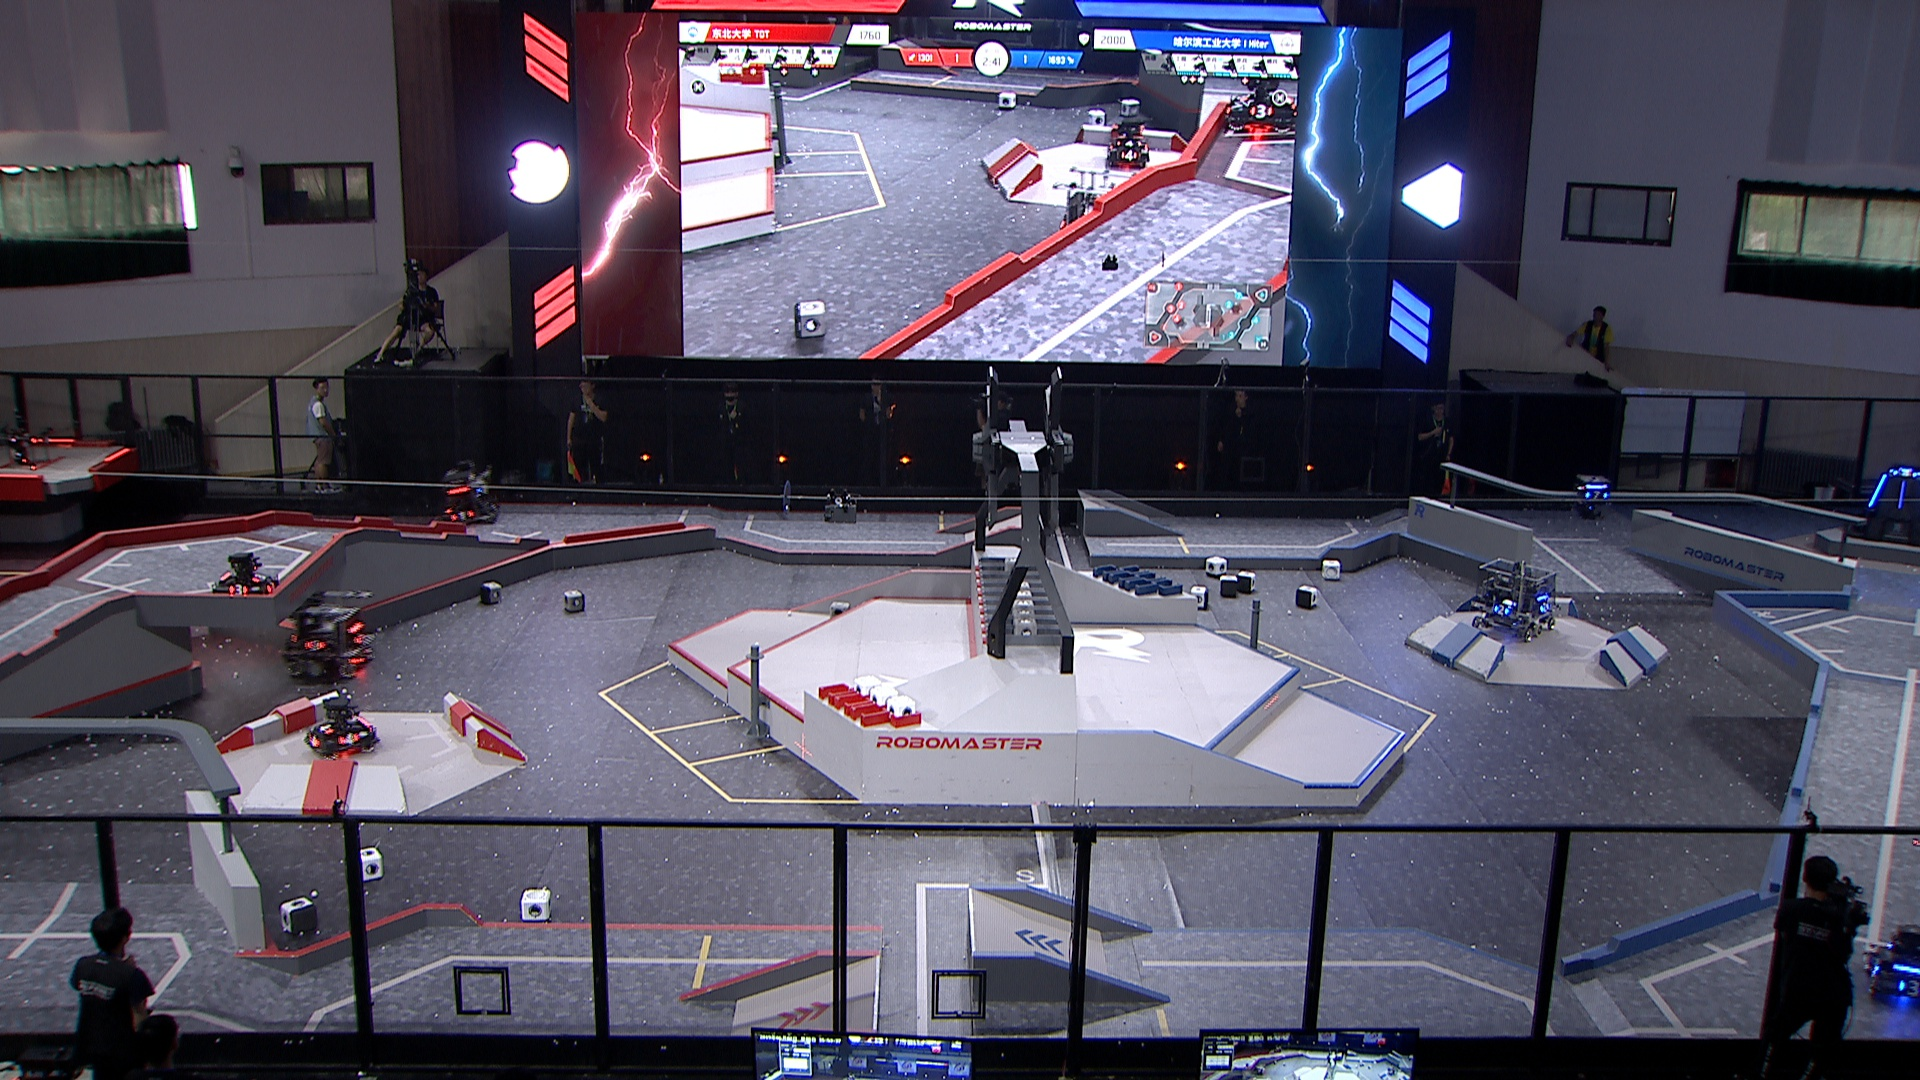armor: (1865, 469, 1888, 510), (447, 506, 477, 524), (1894, 479, 1909, 510), (1896, 977, 1920, 997), (225, 580, 251, 597), (1581, 489, 1610, 504), (1892, 465, 1920, 480), (1869, 953, 1884, 978), (261, 576, 280, 597), (305, 731, 323, 752), (338, 732, 361, 746), (349, 632, 371, 647), (302, 637, 324, 651), (251, 568, 268, 584), (1494, 603, 1513, 617), (1538, 600, 1553, 616), (316, 721, 334, 735)
base: (1841, 462, 1920, 551)
car: (282, 585, 381, 680), (1470, 555, 1560, 645), (301, 694, 381, 764), (1861, 924, 1920, 1010), (439, 460, 504, 527), (210, 549, 286, 603)
ignore: (1218, 76, 1305, 140), (1100, 117, 1153, 171)
watcher: (1569, 469, 1618, 522)
